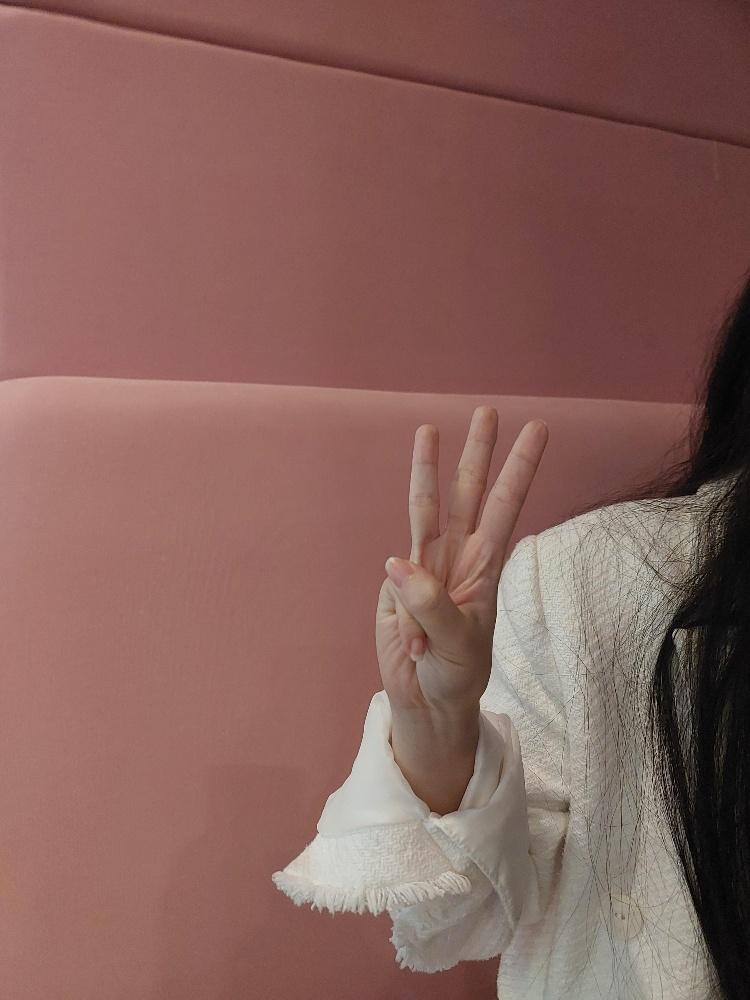w: (373, 404, 548, 700)
